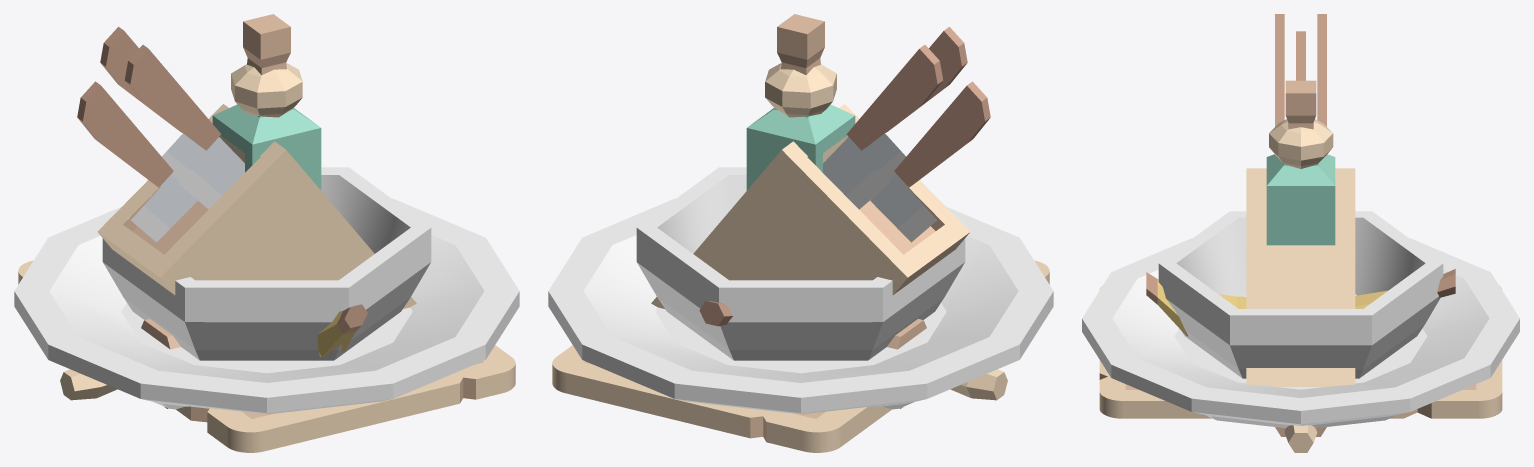
The model's file is fr-props.glb.
The picture shows the model from 3 angles, left to right: view 1: azimuth 30°, elevation 25°; view 2: azimuth 150°, elevation 25°; view 3: azimuth 270°, elevation 25°; orthographic projection. The views are drawn at different scales.
Visible parts, largest first — view 1: plate, bowl, knifeBlock, cookingKnife (×3), cuttingBoard, bottleOil, pepperMill, rollingPin, banana; view 2: plate, bowl, knifeBlock, cookingKnife (×3), cuttingBoard, bottleOil, pepperMill, rollingPin, banana; view 3: plate, bowl, knifeBlock, bottleOil, cuttingBoard, cookingKnife (×3), pepperMill, banana, rollingPin.
Part boxes in pixels (bbox=[...]): plate: bbox=[14, 198, 519, 414]; bowl: bbox=[102, 167, 431, 360]; knifeBlock: bbox=[97, 104, 416, 308]; cookingKnife (×3): bbox=[77, 26, 244, 242]; cuttingBoard: bbox=[18, 260, 515, 452]; bottleOil: bbox=[212, 14, 321, 190]; pepperMill: bbox=[231, 63, 302, 117]; rollingPin: bbox=[60, 319, 180, 408]; banana: bbox=[317, 304, 367, 356]; plate: bbox=[548, 198, 1053, 414]; bowl: bbox=[636, 167, 965, 360]; knifeBlock: bbox=[651, 104, 970, 308]; cookingKnife (×3): bbox=[823, 26, 990, 242]; cuttingBoard: bbox=[552, 260, 1049, 452]; bottleOil: bbox=[746, 14, 855, 190]; pepperMill: bbox=[765, 63, 836, 117]; rollingPin: bbox=[887, 319, 1007, 408]; banana: bbox=[699, 300, 732, 326]; plate: bbox=[1082, 238, 1519, 428]; bowl: bbox=[1158, 211, 1443, 378]; knifeBlock: bbox=[1246, 168, 1355, 386]; bottleOil: bbox=[1266, 80, 1335, 245]; cuttingBoard: bbox=[1099, 285, 1502, 418]; cookingKnife (×3): bbox=[1275, 14, 1326, 126]; pepperMill: bbox=[1269, 119, 1333, 168]; banana: bbox=[1146, 269, 1455, 336]; rollingPin: bbox=[1275, 425, 1326, 452].
Bounding box in the file's own units: 0.8918 × 0.7174 × 0.8918.
